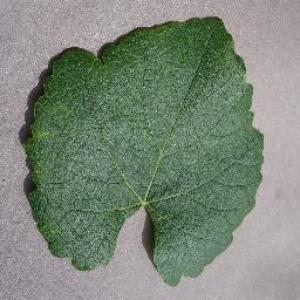Folha: (22, 14, 264, 287)
